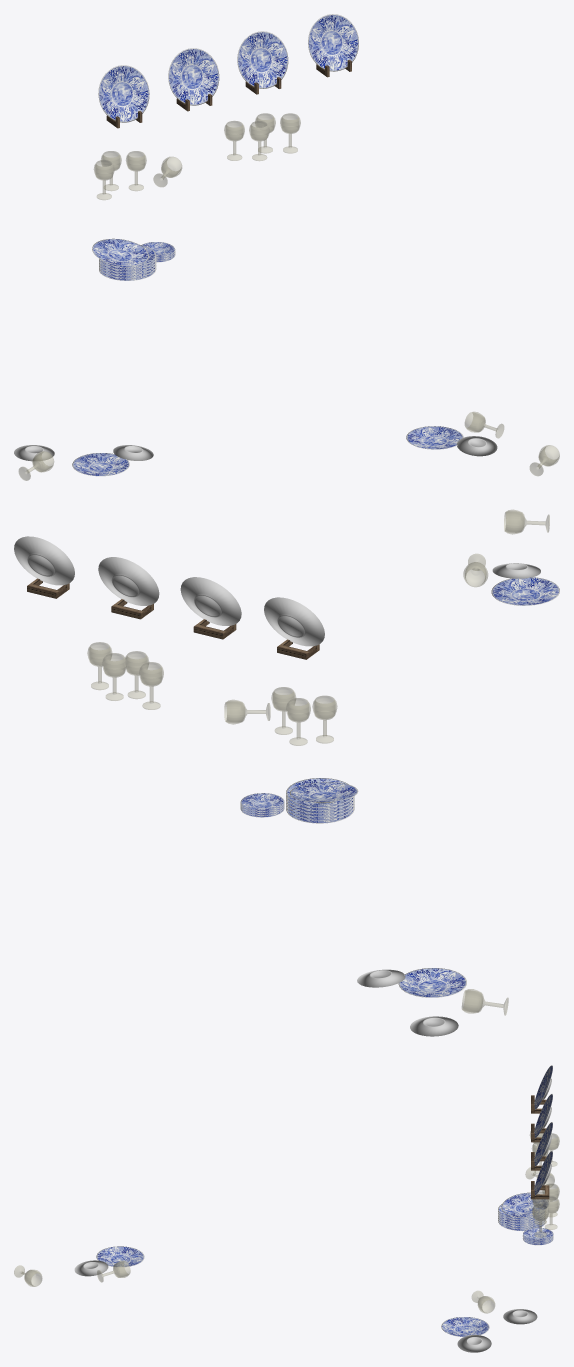
The model's file is dishes.glb.
The picture shows the model from 3 angles, top to bottom: view 1: azimuth 30°, elevation 25°; view 2: azimuth 150°, elevation 25°; view 3: azimuth 270°, elevation 25°; orthographic projection. The views are drawn at different scales.
Parts seen in each view (by area): view 1: plates upper, glasses(cabinet), plates lower, plate floor1, plate floor1.001, glass table; view 2: plates upper, glasses(cabinet), plate floor1, plates lower, plate floor1.001, glass table, small plates; view 3: plates upper, plate floor1, plates lower, glasses(cabinet), plate floor1.001, glass table, small plates.
Boxes of the visible parts, left/top/right/bottom form: plates upper: left=98, top=14, right=358, bottom=128; glasses(cabinet): left=94, top=113, right=300, bottom=199; plates lower: left=92, top=238, right=156, bottom=280; plate floor1: left=14, top=445, right=153, bottom=476; plate floor1.001: left=406, top=426, right=497, bottom=456; glass table: left=465, top=412, right=559, bottom=475; plates upper: left=14, top=536, right=324, bottom=659; glasses(cabinet): left=87, top=642, right=337, bottom=745; plate floor1: left=357, top=968, right=466, bottom=1036; plates lower: left=286, top=778, right=358, bottom=823; plate floor1.001: left=491, top=563, right=559, bottom=605; glass table: left=463, top=509, right=549, bottom=586; small plates: left=240, top=793, right=284, bottom=817; plates upper: left=531, top=1065, right=552, bottom=1199; plate floor1: left=441, top=1309, right=537, bottom=1352; plates lower: left=498, top=1192, right=548, bottom=1231; glasses(cabinet): left=525, top=1131, right=559, bottom=1237; plate floor1.001: left=74, top=1246, right=144, bottom=1276; glass table: left=14, top=1261, right=130, bottom=1286; small plates: left=523, top=1227, right=553, bottom=1245.
Size of the model in its own units: 17.42 by 15.45 by 26.17.
Materials: 41 (21 with a texture image).
